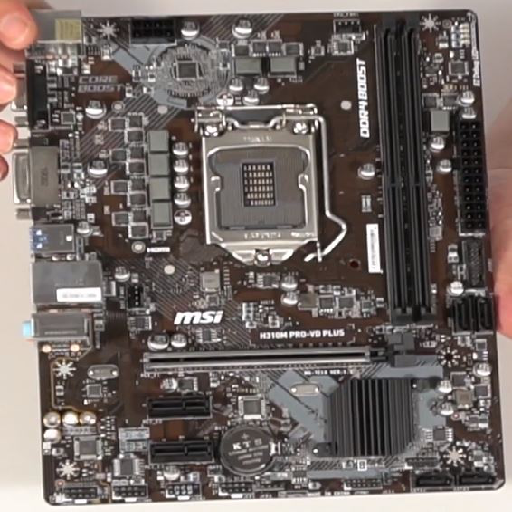CPU: (193, 103, 331, 267)
GPU: (142, 341, 394, 373)
MOTHERBOARD: (23, 12, 506, 502)
RAM: (370, 21, 439, 322)
